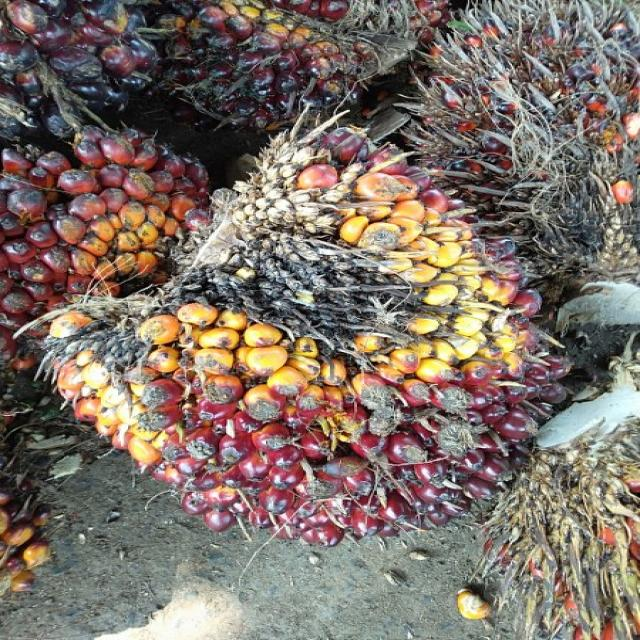fraksi 1: (26, 130, 604, 574)
